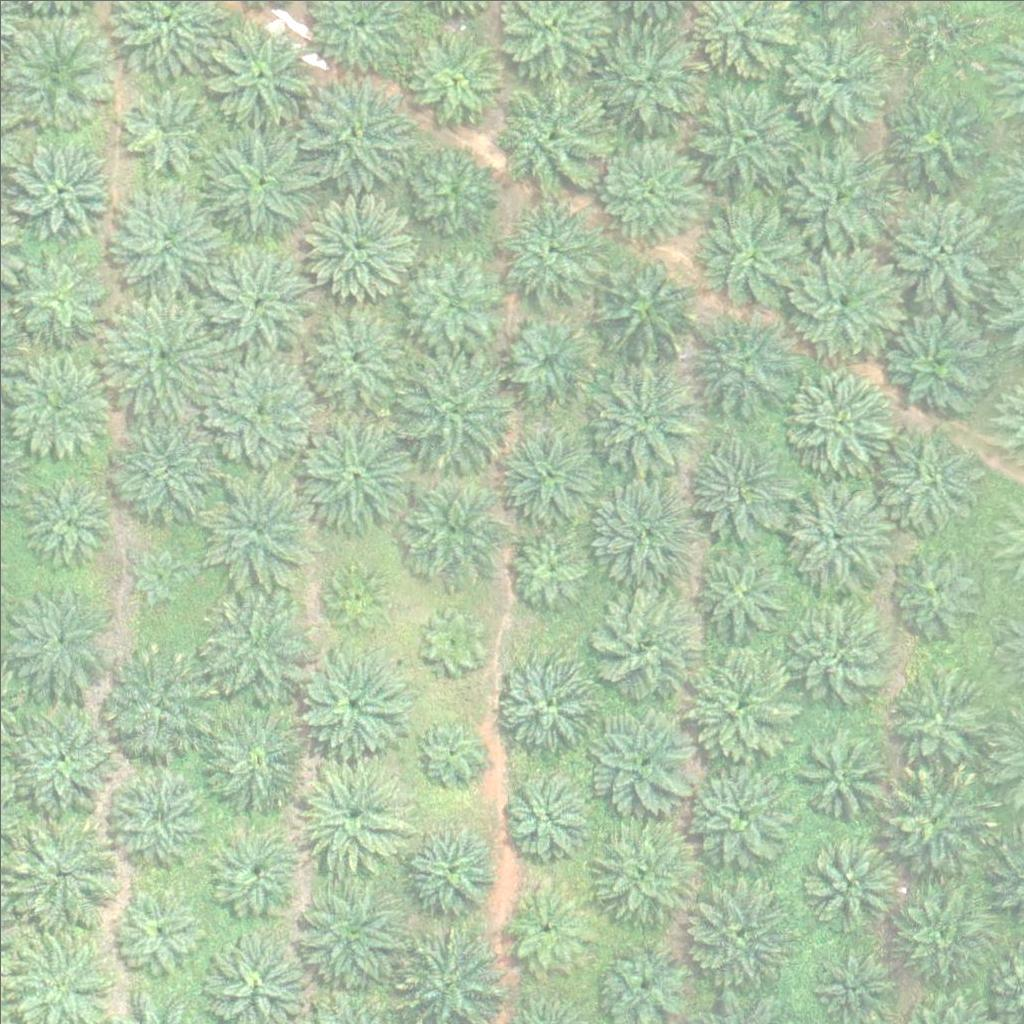Kelapa_Sawit: (1, 577, 114, 691), (582, 249, 695, 363), (874, 424, 987, 538), (697, 197, 810, 311), (590, 131, 703, 245), (492, 78, 605, 192), (678, 872, 791, 985), (683, 753, 796, 866), (389, 815, 502, 928), (297, 753, 410, 866), (8, 816, 121, 929), (3, 697, 116, 810), (204, 476, 317, 589), (200, 353, 313, 466), (295, 642, 408, 755), (298, 416, 411, 529), (590, 587, 703, 700), (586, 474, 699, 587), (585, 359, 698, 472), (685, 649, 798, 762), (683, 529, 796, 642), (882, 304, 995, 417), (883, 189, 996, 302), (880, 83, 993, 196), (594, 19, 707, 132), (298, 186, 411, 299), (205, 241, 318, 354), (202, 127, 315, 240), (201, 22, 314, 135), (293, 879, 405, 993), (196, 811, 308, 925), (102, 642, 214, 756), (199, 699, 311, 813), (688, 309, 800, 423), (778, 478, 890, 592), (782, 357, 894, 471), (878, 865, 990, 978), (589, 815, 701, 928), (1, 345, 113, 458), (107, 411, 219, 524), (105, 298, 217, 411), (196, 587, 308, 700), (299, 297, 411, 410), (395, 470, 507, 583), (396, 348, 508, 461), (487, 643, 599, 756), (493, 412, 605, 525), (587, 702, 699, 815), (683, 427, 795, 540), (777, 595, 889, 708), (881, 761, 993, 874), (787, 243, 899, 356), (782, 139, 894, 252), (781, 21, 893, 134), (686, 80, 798, 193), (301, 73, 413, 186), (111, 180, 223, 293), (798, 832, 898, 933), (497, 307, 597, 408), (792, 723, 892, 824), (397, 252, 497, 353), (396, 142, 496, 243), (112, 74, 212, 175), (8, 252, 108, 353), (12, 141, 112, 242), (105, 764, 205, 864), (17, 472, 117, 572), (889, 665, 989, 765), (888, 535, 988, 635), (494, 203, 594, 303), (398, 28, 498, 128), (502, 767, 590, 855), (505, 527, 593, 615), (503, 883, 590, 971), (112, 886, 199, 974), (324, 565, 387, 628), (416, 719, 479, 782), (421, 608, 484, 671), (128, 545, 190, 608)
